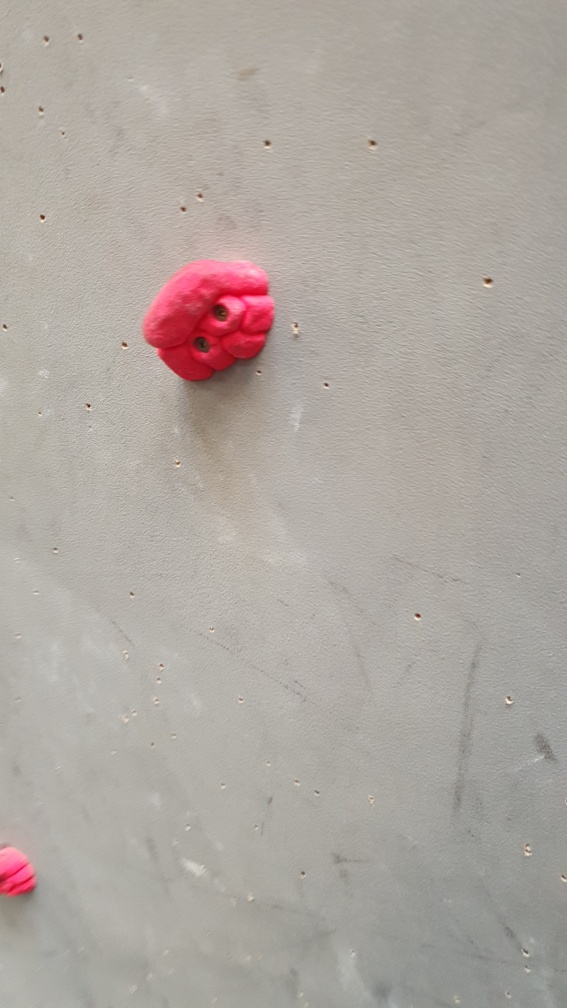Jug: (142, 253, 283, 391)
